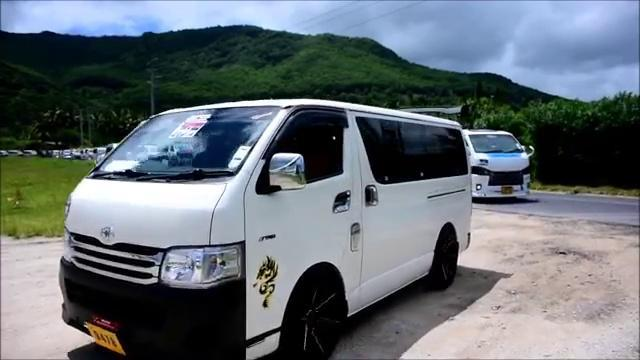van: (60, 99, 473, 360)
